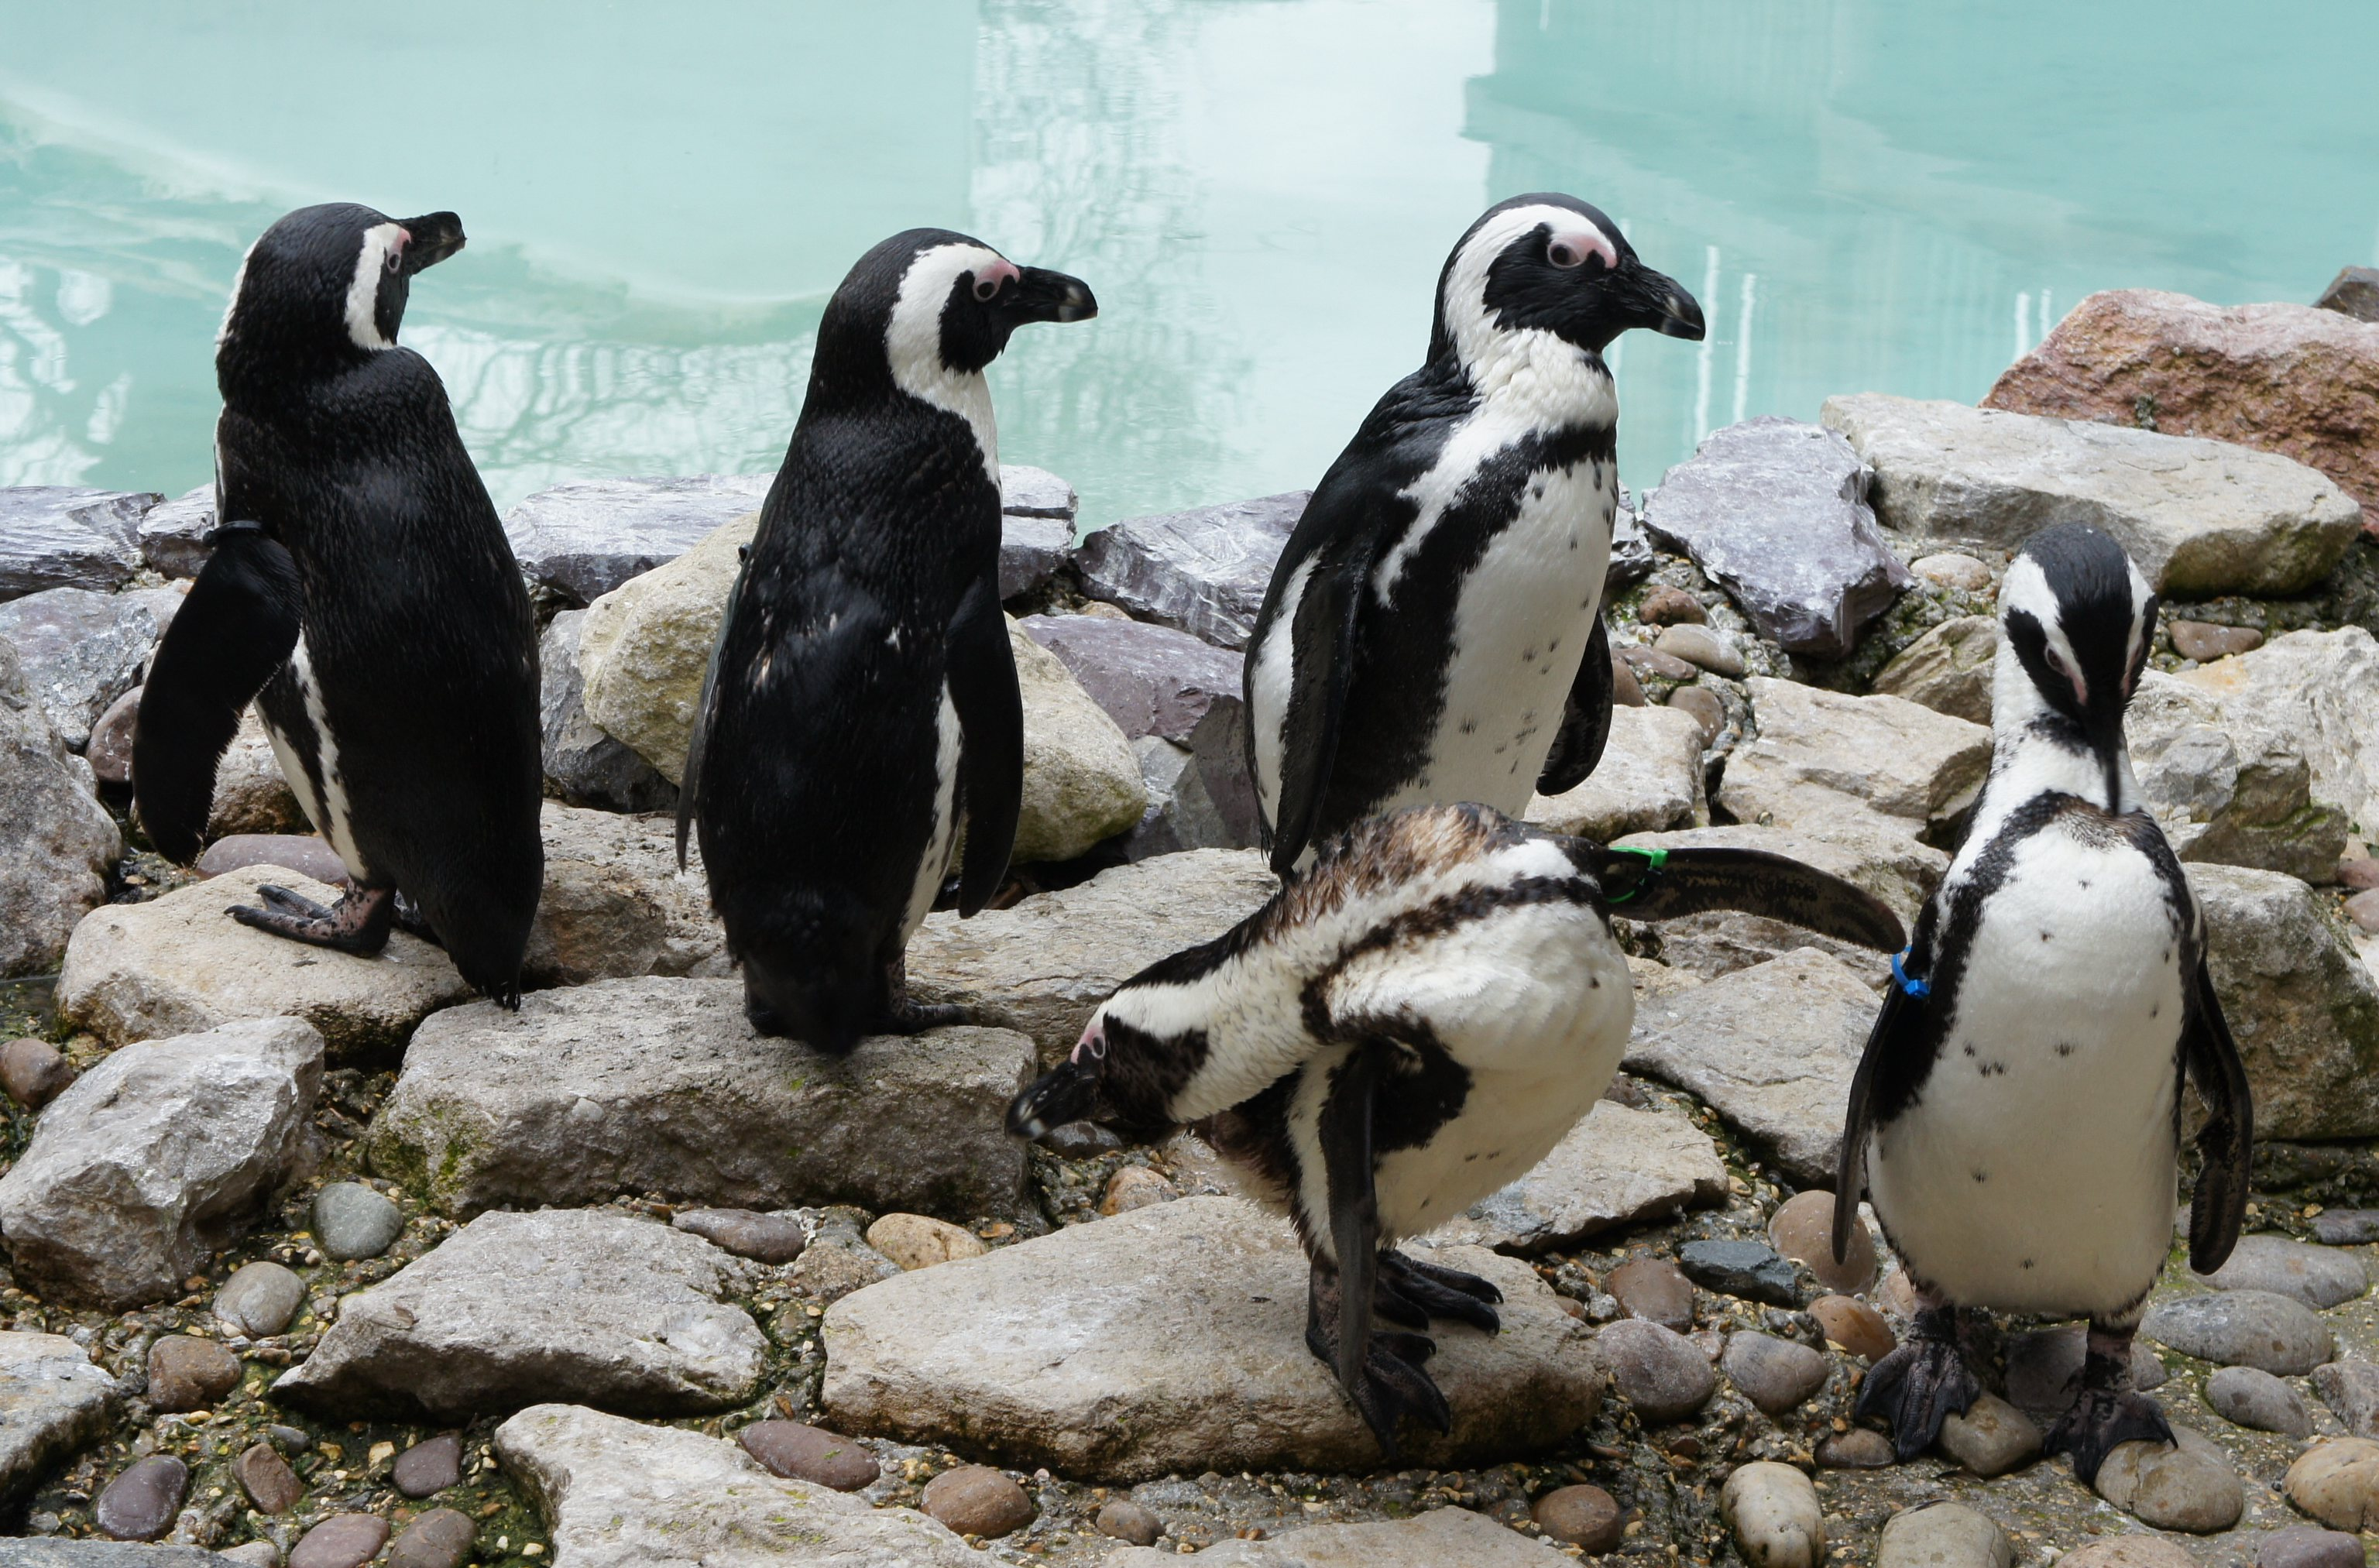penguin: (1838, 546, 2274, 1484), (1247, 185, 1725, 892), (147, 191, 553, 1022), (710, 231, 1097, 1048)
